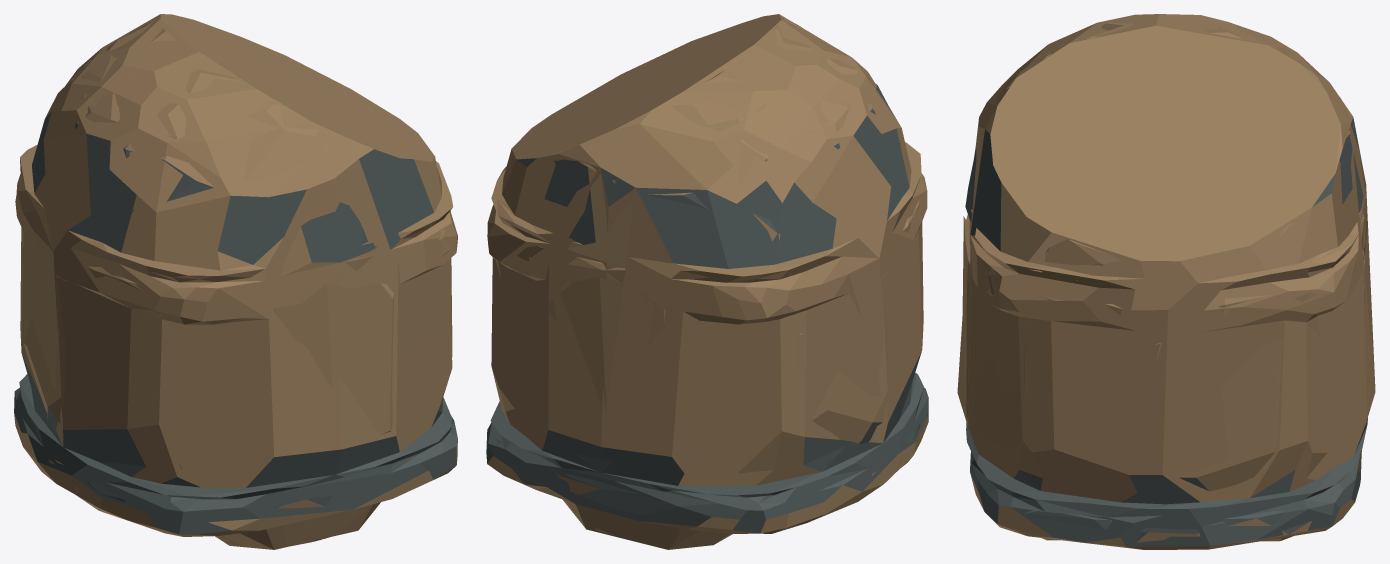
Rendered from ENV_09_BARREL_game.glb.
3 renders of one model, left to right at view 1: azimuth 30°, elevation 25°; view 2: azimuth 150°, elevation 25°; view 3: azimuth 270°, elevation 25°, orthographic. The views are drawn at different scales.
Parts seen in each view (by area): view 1: ENV_09_BARREL; view 2: ENV_09_BARREL; view 3: ENV_09_BARREL.
Part boxes in pixels (x1=…): ENV_09_BARREL: x1=14, y1=14, x2=457, y2=549; ENV_09_BARREL: x1=486, y1=14, x2=928, y2=549; ENV_09_BARREL: x1=957, y1=14, x2=1375, y2=549.
Size of the model in its own units: 0.8129 by 1 by 0.8021.
